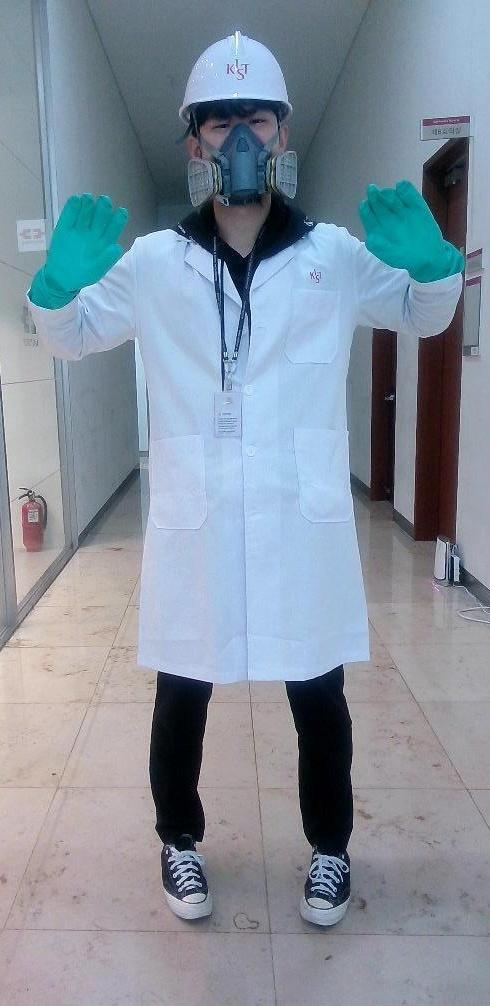lab_coat: (119, 242, 358, 664)
